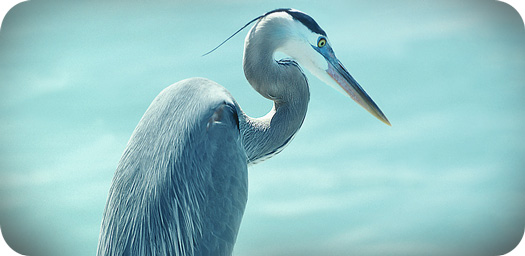heron: (106, 6, 395, 256)
